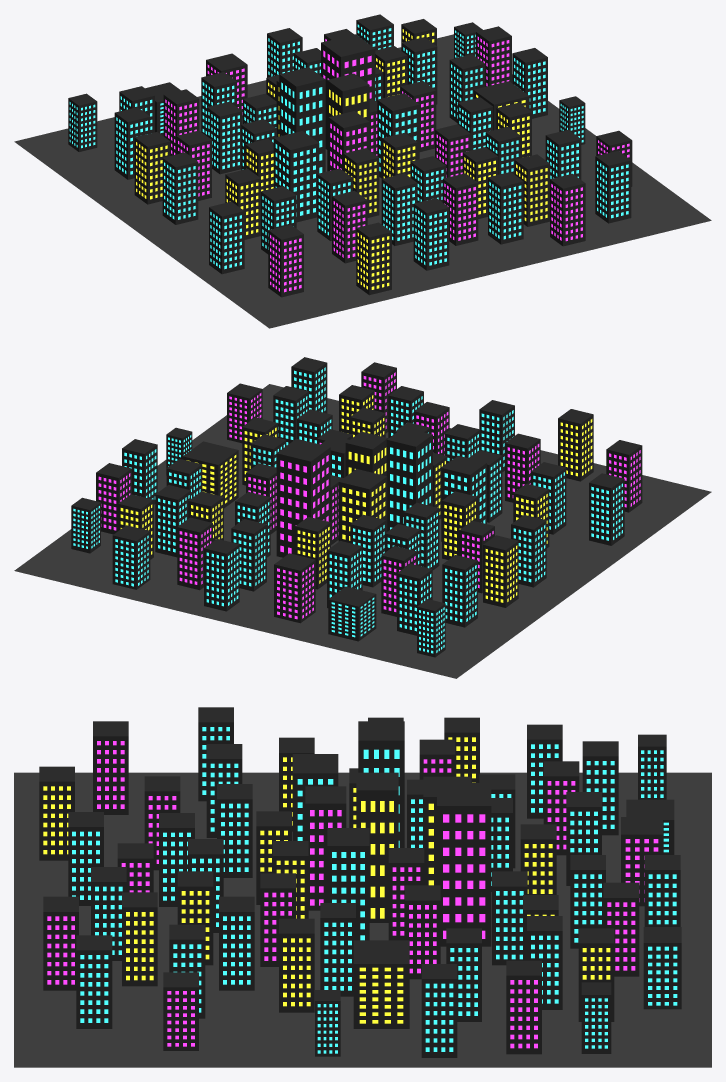
Rendered from menu bkgd.fbx.
3 views of the same model, one above another, from view 1: azimuth 30°, elevation 25°; view 2: azimuth 150°, elevation 25°; view 3: azimuth 270°, elevation 25° (orthographic). The views are drawn at different scales.
Visible parts, largest first — view 1: Plane, Cube.004, Cube.010, Cube.046, Cube.030, Cube.041, Cube.023, Cube.045, Cube.033, Cube.032, Cube.031, Cube.061 (+46 smaller); view 2: Plane, Cube.046, Cube.004, Cube.042, Cube.005, Cube.032, Cube.029, Cube.051, Cube.043, Cube.045, Cube.049, Cube.037 (+47 smaller); view 3: Plane, Cube.046, Cube.047, Cube, Cube.024, Cube.041, Cube.039, Cube.056, Cube.044, Cube.017, Cube.016, Cube.058 (+49 smaller).
Boxes of the visible parts, x1,y1,x2,y2 form: Plane: (14,34,711,328); Cube.004: (279,67,325,173); Cube.010: (273,131,319,222); Cube.046: (321,34,375,149); Cube.030: (162,152,198,224); Cube.041: (595,151,631,223); Cube.023: (413,198,449,270); Cube.045: (356,222,391,295); Cube.033: (488,172,523,244); Cube.032: (209,201,244,274); Cube.031: (268,224,303,297); Cube.061: (550,173,585,246); Plane: (14,384,711,678); Cube.046: (276,438,330,557); Cube.004: (386,427,432,531); Cube.042: (274,553,315,623); Cube.005: (338,469,387,542); Cube.032: (589,473,624,545); Cube.029: (483,535,518,607); Cube.051: (204,539,239,611); Cube.043: (442,555,477,627); Cube.045: (558,409,593,481); Cube.049: (328,586,376,641); Cube.037: (112,525,150,589); Plane: (14,772,711,1067); Cube.046: (437,783,491,946); Cube.047: (353,940,409,1028); Cube: (356,772,398,922); Cube.024: (327,828,369,940); Cube.041: (76,935,112,1028); Cube.039: (421,964,457,1057); Cube.056: (219,896,254,990); Cube.044: (506,960,541,1054); Cube.017: (279,918,314,1012); Cube.016: (122,892,157,986); Cube.058: (305,786,346,910).
Size of the model in its own units: 1600 by 540 by 1600.
